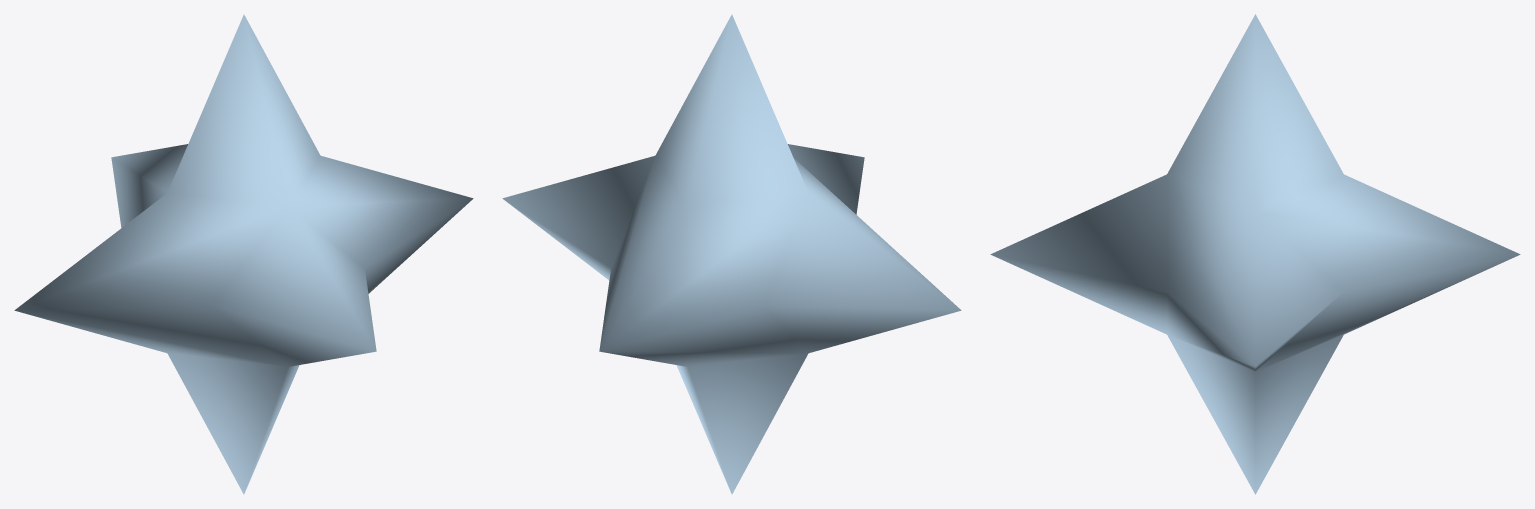
Rendered from Bomb.FBX.
3 renders of one model, left to right at view 1: azimuth 30°, elevation 25°; view 2: azimuth 150°, elevation 25°; view 3: azimuth 270°, elevation 25°, orthographic.
Parts seen in each view (by area): view 1: Box01; view 2: Box01; view 3: Box01.
Part boxes in pixels (x1,y1,x2,y2): Box01: [14, 14, 473, 494]; Box01: [502, 14, 961, 494]; Box01: [990, 14, 1520, 494].
Bounding box in the file's own units: 75 × 75 × 75.
